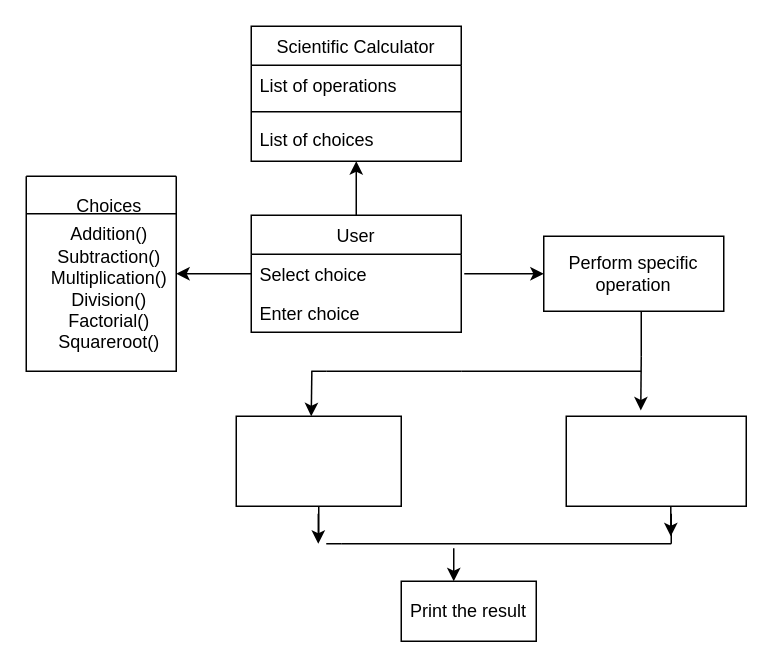
Image size: 773x668. Some labels were removed from this diagram. Each missing label, with the centre of its shape:
Arithmetic operation: the point at 318,460
Other operation: the point at 655,460
